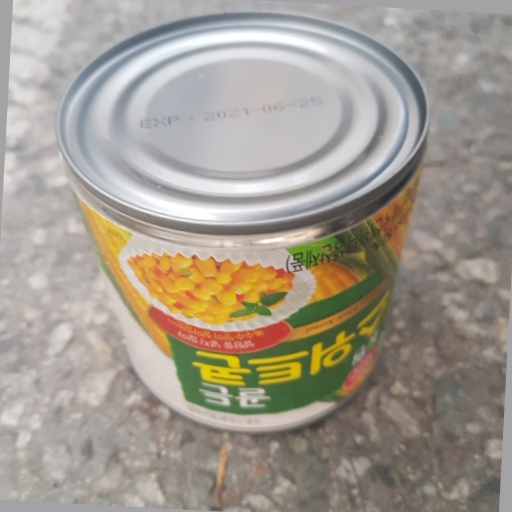Metal_1: (51, 10, 431, 439)
